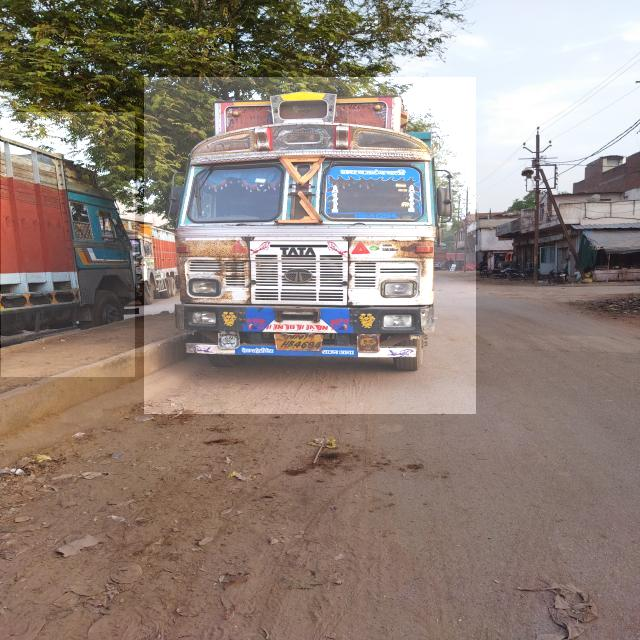Truck: (144, 77, 477, 414), (1, 112, 136, 377)
